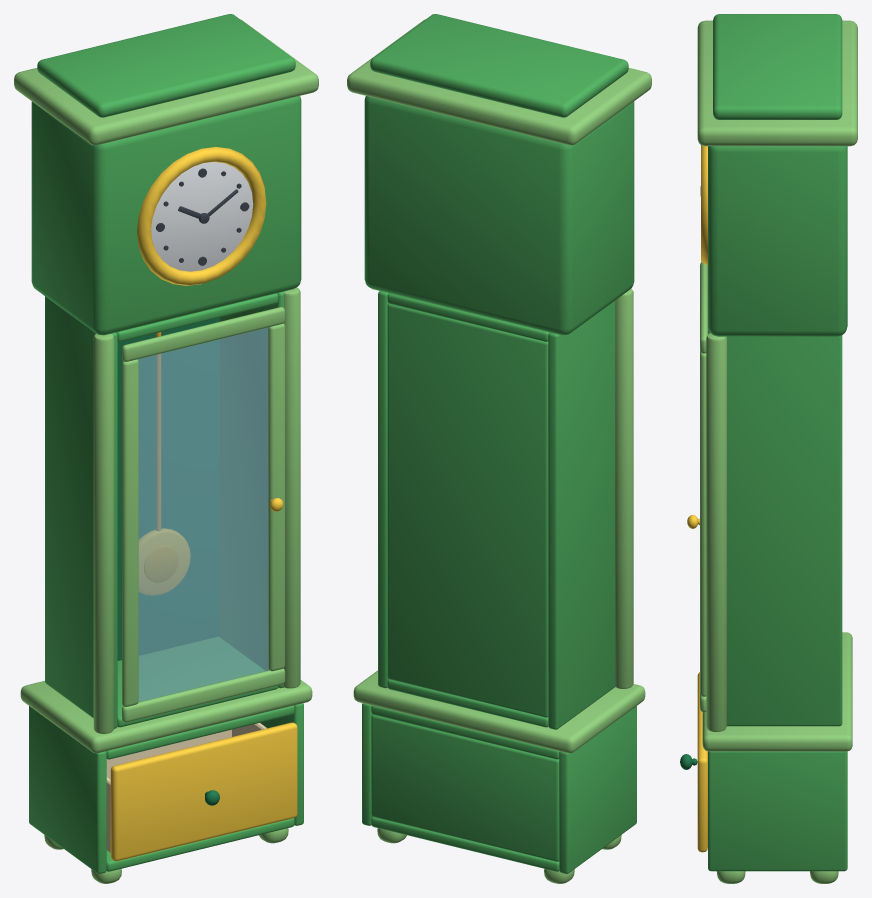
The model's file is relogio_pe_verde.glb.
3 views of the same model, side by side, from view 1: azimuth 30°, elevation 25°; view 2: azimuth 150°, elevation 25°; view 3: azimuth 270°, elevation 25° (orthographic).
Parts seen in each view (by area): view 1: relogio_pe_verde, porta_1, gaveta_1; view 2: relogio_pe_verde; view 3: relogio_pe_verde, porta_1, gaveta_1.
Part boxes in pixels (x1=…): relogio_pe_verde: x1=14, y1=14, x2=318, y2=883; porta_1: x1=122, y1=307, x2=285, y2=722; gaveta_1: x1=106, y1=722, x2=297, y2=861; relogio_pe_verde: x1=347, y1=14, x2=651, y2=883; relogio_pe_verde: x1=697, y1=14, x2=857, y2=883; porta_1: x1=687, y1=262, x2=708, y2=712; gaveta_1: x1=680, y1=672, x2=707, y2=852.
Bounding box in the file's own units: 0.51 × 1.66 × 0.3438.
2 materials, 1 textured.
